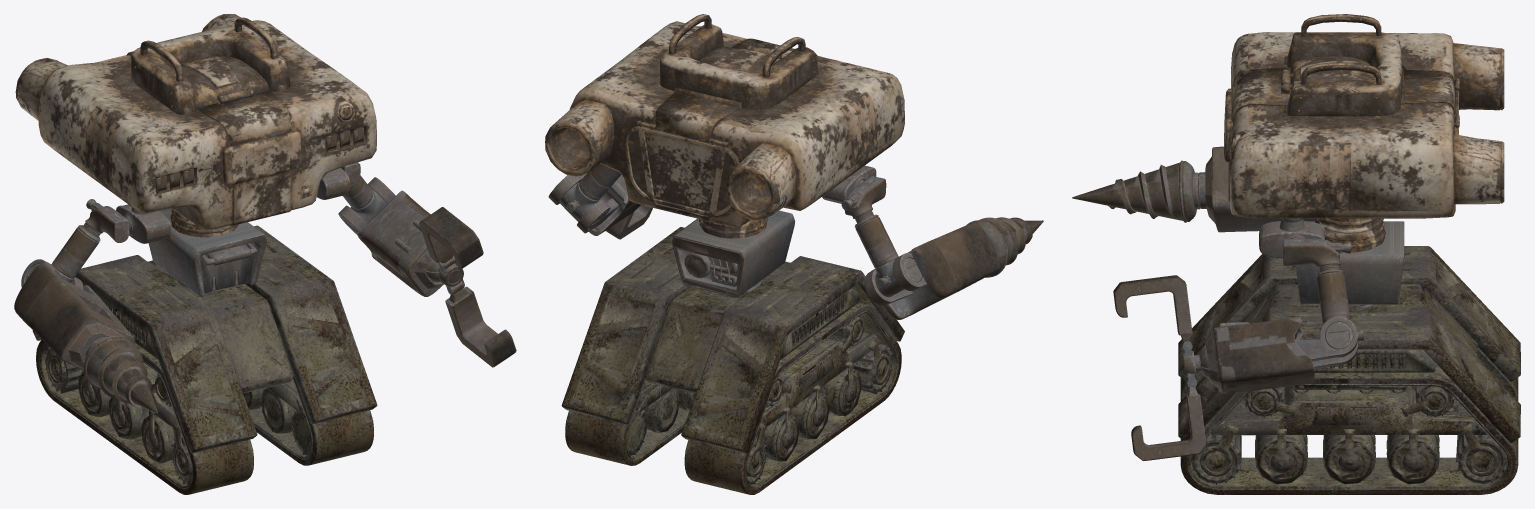
Rendered from BigRobot.fbx.
3 renders of one model, left to right at view 1: azimuth 30°, elevation 25°; view 2: azimuth 150°, elevation 25°; view 3: azimuth 270°, elevation 25°, orthographic. The views are drawn at different scales.
Visible parts, largest first — view 1: Top_Main, Bottom_TracksR, Arm_DrillBase, Middle_BottomRotator, Arm_GrabberBase, Arm_Drill, Arm_GrabberRotator.001, Arm_GrabberRotator, ArmL_TConnector.001, ArmL_Base.001, ArmL_MainJoint.001, ArmL_TConnector (+2 smaller); view 2: Bottom_TracksR, Top_Main, Middle_BottomRotator, Arm_DrillBase, ArmL_TConnector.001, Arm_GrabberBase, Arm_Drill, ArmL_TConnector, ArmL_MainJoint.001, ArmL_Base.001, Arm_GrabberRotator.001; view 3: Bottom_TracksR, Top_Main, Arm_GrabberBase, Middle_BottomRotator, Arm_Drill, Arm_DrillBase, ArmL_TConnector, Arm_GrabberRotator, Arm_GrabberRotator.001, ArmL_MainJoint, ArmL_Base, Arm_GrabberJoint.
Boxes of the visible parts, x1,y1,x2,y2 form: Top_Main: (15, 14, 376, 237); Bottom_TracksR: (32, 225, 377, 494); Arm_DrillBase: (14, 259, 134, 370); Middle_BottomRotator: (148, 208, 266, 296); Arm_GrabberBase: (338, 177, 443, 296); Arm_Drill: (84, 336, 157, 413); Arm_GrabberRotator.001: (445, 281, 516, 367); Arm_GrabberRotator: (419, 207, 483, 269); ArmL_TConnector.001: (25, 222, 100, 283); ArmL_Base.001: (116, 204, 170, 243); ArmL_MainJoint.001: (85, 199, 131, 242); ArmL_TConnector: (342, 175, 387, 233); Bottom_TracksR: (561, 227, 904, 494); Top_Main: (545, 14, 904, 238); Middle_BottomRotator: (672, 210, 795, 297); Arm_DrillBase: (864, 222, 999, 319); ArmL_TConnector.001: (855, 210, 921, 297); Arm_GrabberBase: (548, 173, 640, 235); Arm_Drill: (966, 217, 1043, 277); ArmL_TConnector: (560, 163, 621, 229); ArmL_MainJoint.001: (841, 176, 886, 218); ArmL_Base.001: (822, 165, 876, 203); Arm_GrabberRotator.001: (606, 205, 652, 239); Bottom_TracksR: (1178, 246, 1520, 494); Top_Main: (1224, 14, 1504, 252); Arm_GrabberBase: (1205, 316, 1358, 393); Middle_BottomRotator: (1291, 221, 1404, 307); Arm_Drill: (1072, 160, 1206, 222); Arm_DrillBase: (1205, 146, 1315, 232); ArmL_TConnector: (1316, 264, 1364, 357); Arm_GrabberRotator: (1113, 275, 1192, 350); Arm_GrabberRotator.001: (1131, 379, 1206, 460); ArmL_MainJoint: (1283, 238, 1350, 268); ArmL_Base: (1259, 218, 1325, 258); Arm_GrabberJoint: (1182, 342, 1209, 386).
Size of the model in its own units: 505 by 453 by 448.
